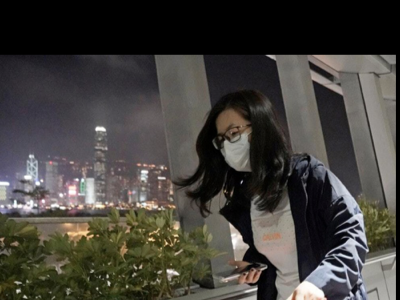with_mask: (215, 122, 251, 171)
